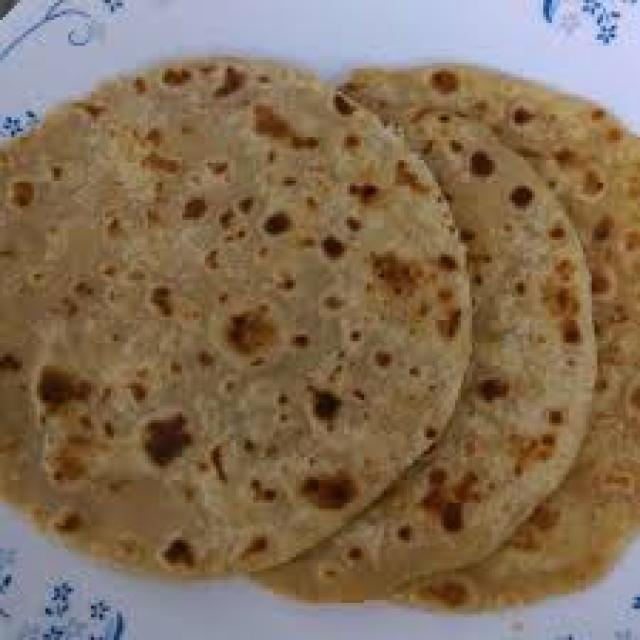ROTI: (6, 64, 469, 580), (231, 64, 637, 610)
